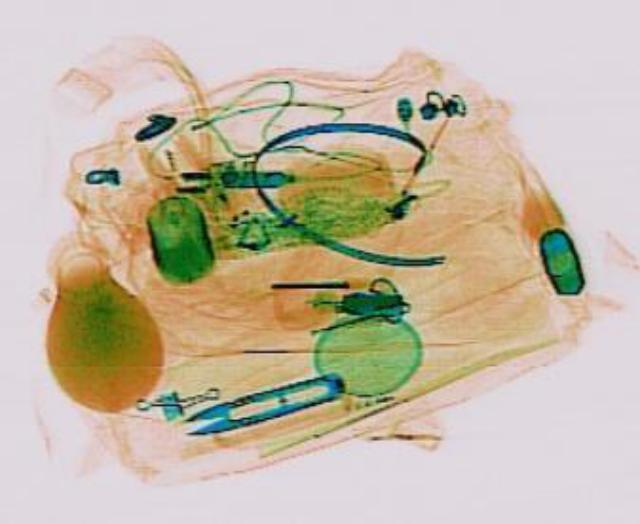Scissors: (173, 365, 347, 438)
